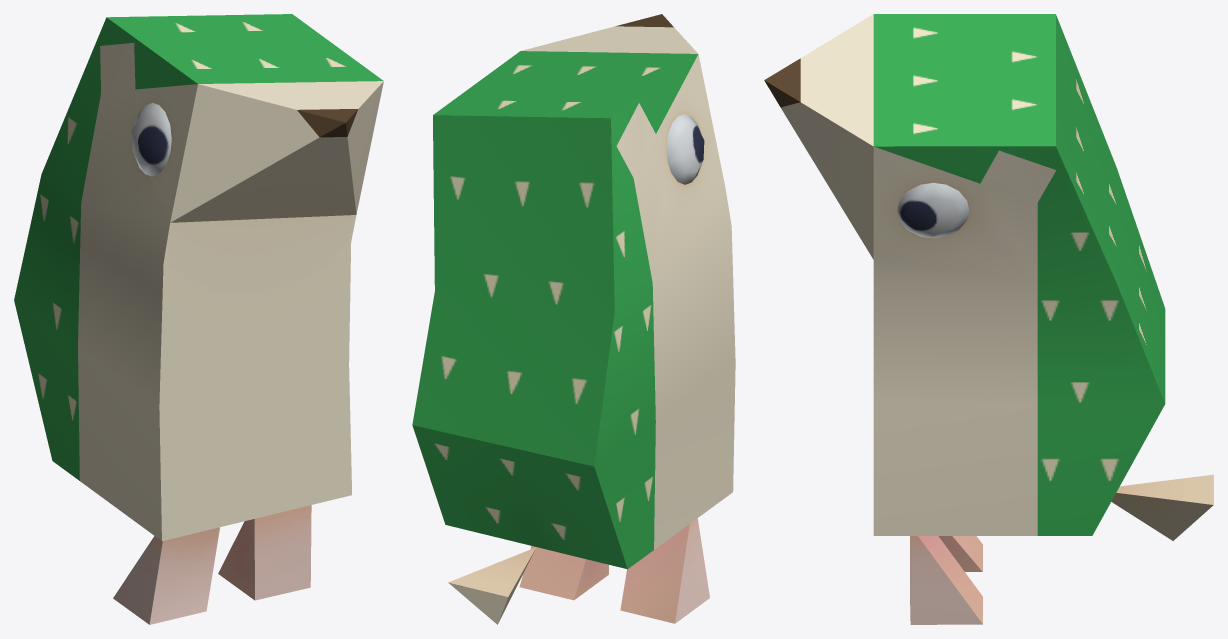
Rendered from CT_Fidgehog.fbx.
3 renders of one model, left to right at view 1: azimuth 30°, elevation 25°; view 2: azimuth 150°, elevation 25°; view 3: azimuth 270°, elevation 25°, orthographic. The views are drawn at different scales.
Parts seen in each view (by area): view 1: fidgehog; view 2: fidgehog; view 3: fidgehog.
Part boxes in pixels (x1=…): fidgehog: x1=14, y1=14, x2=383, y2=624; fidgehog: x1=412, y1=14, x2=735, y2=624; fidgehog: x1=764, y1=14, x2=1213, y2=624.
Size of the model in its own units: 2.13 by 4.97 by 3.7.
